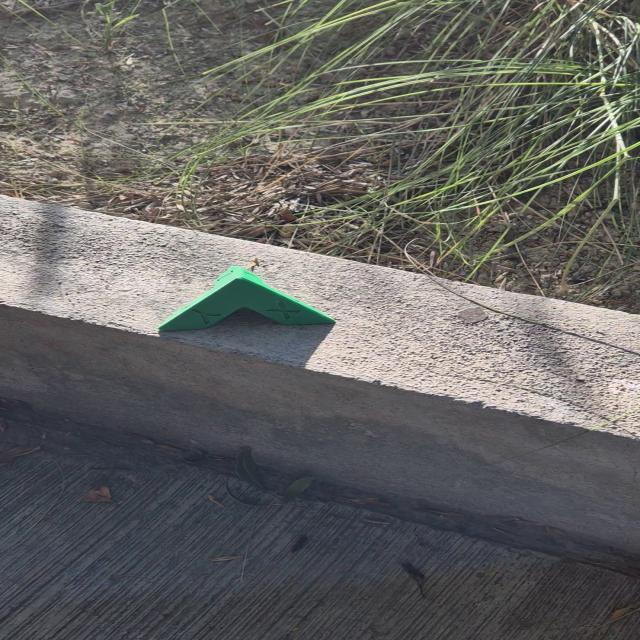eje: (154, 264, 338, 332)
